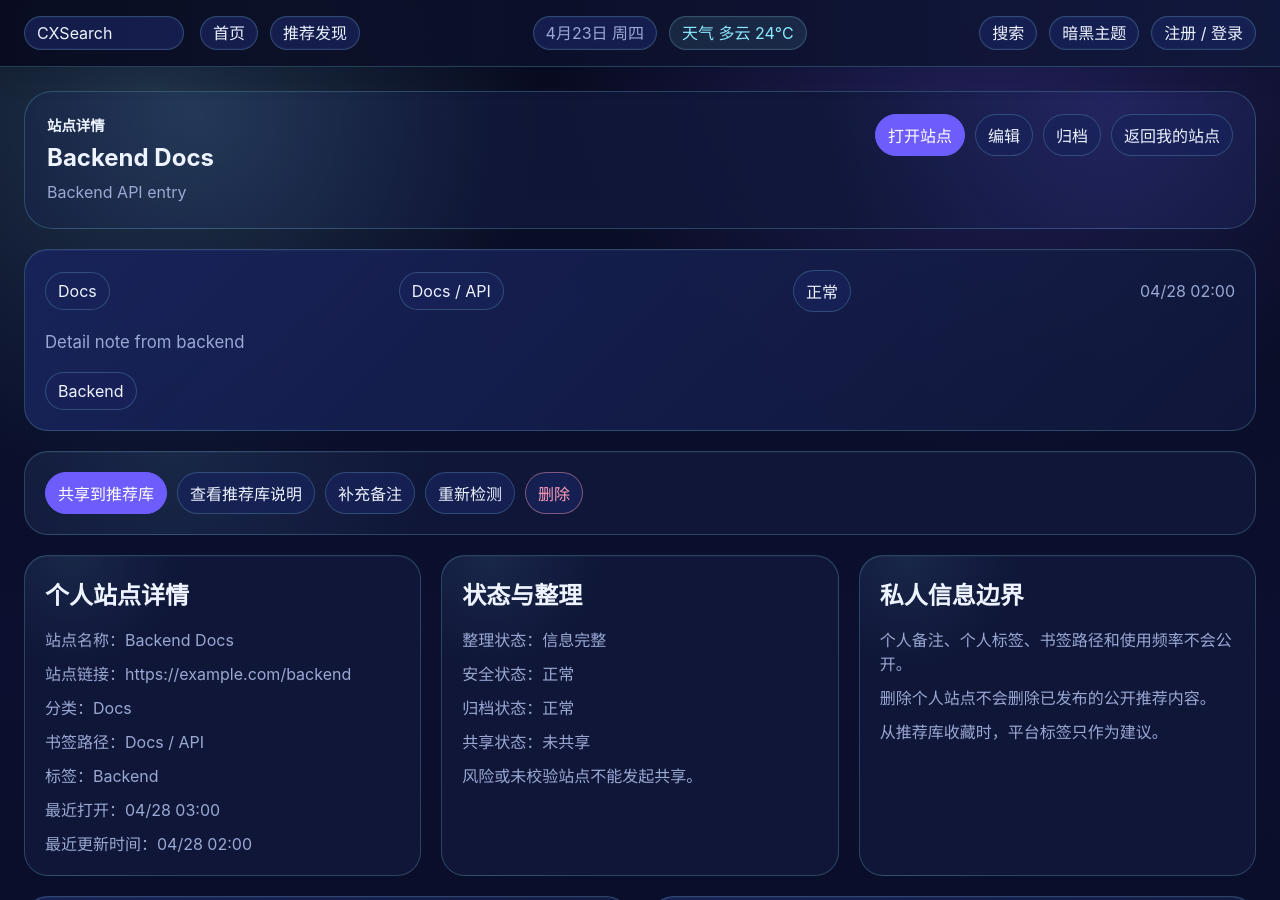
Scenario: my sites page › wires authenticated detail actions to personal site backend endpoints
Expected: the heading "Backend Docs" is shown, [47,143,214,172]
Click the button "打开站点": (920, 135) [875,114,965,156]
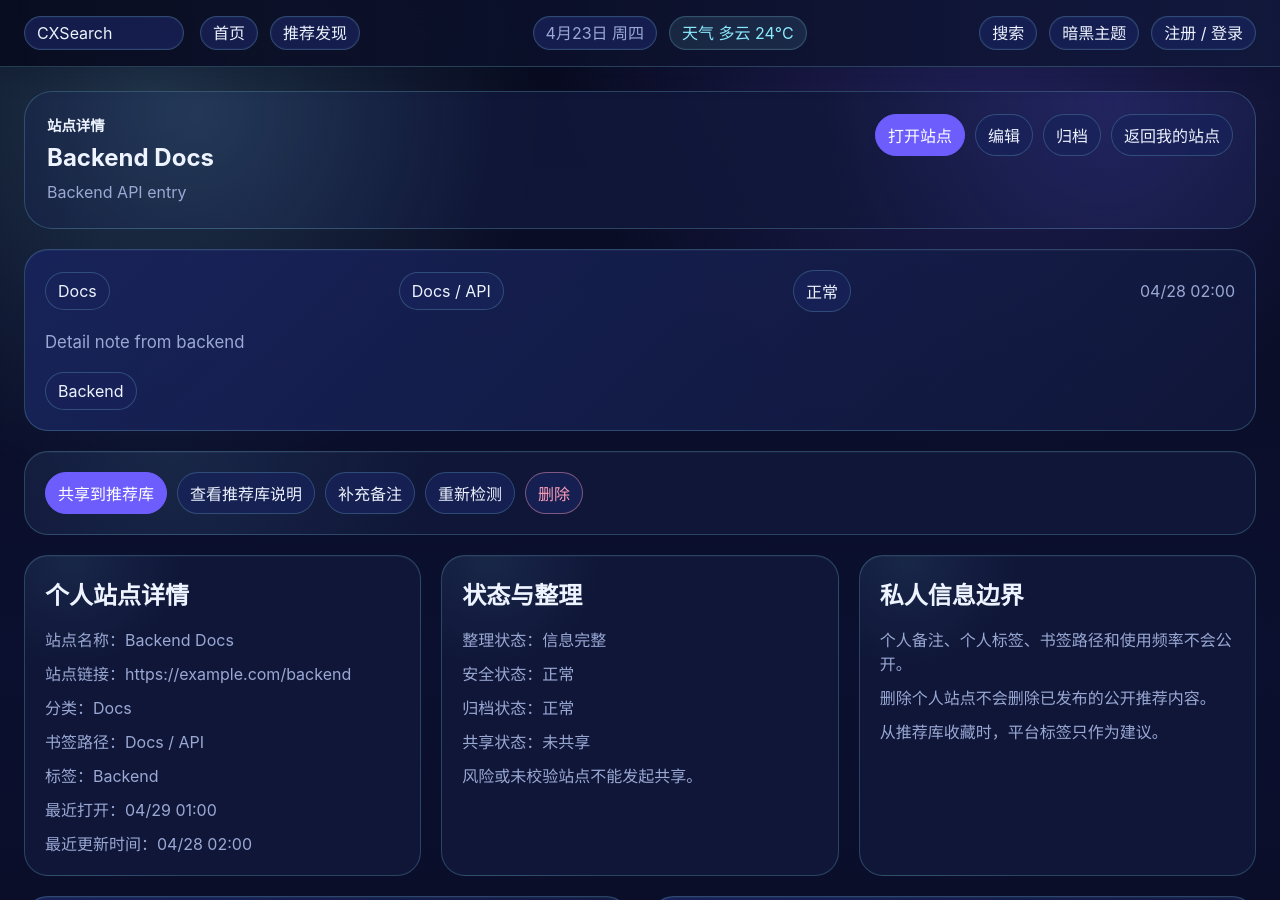
Click the button "归档": (1072, 135) [1043,114,1101,156]
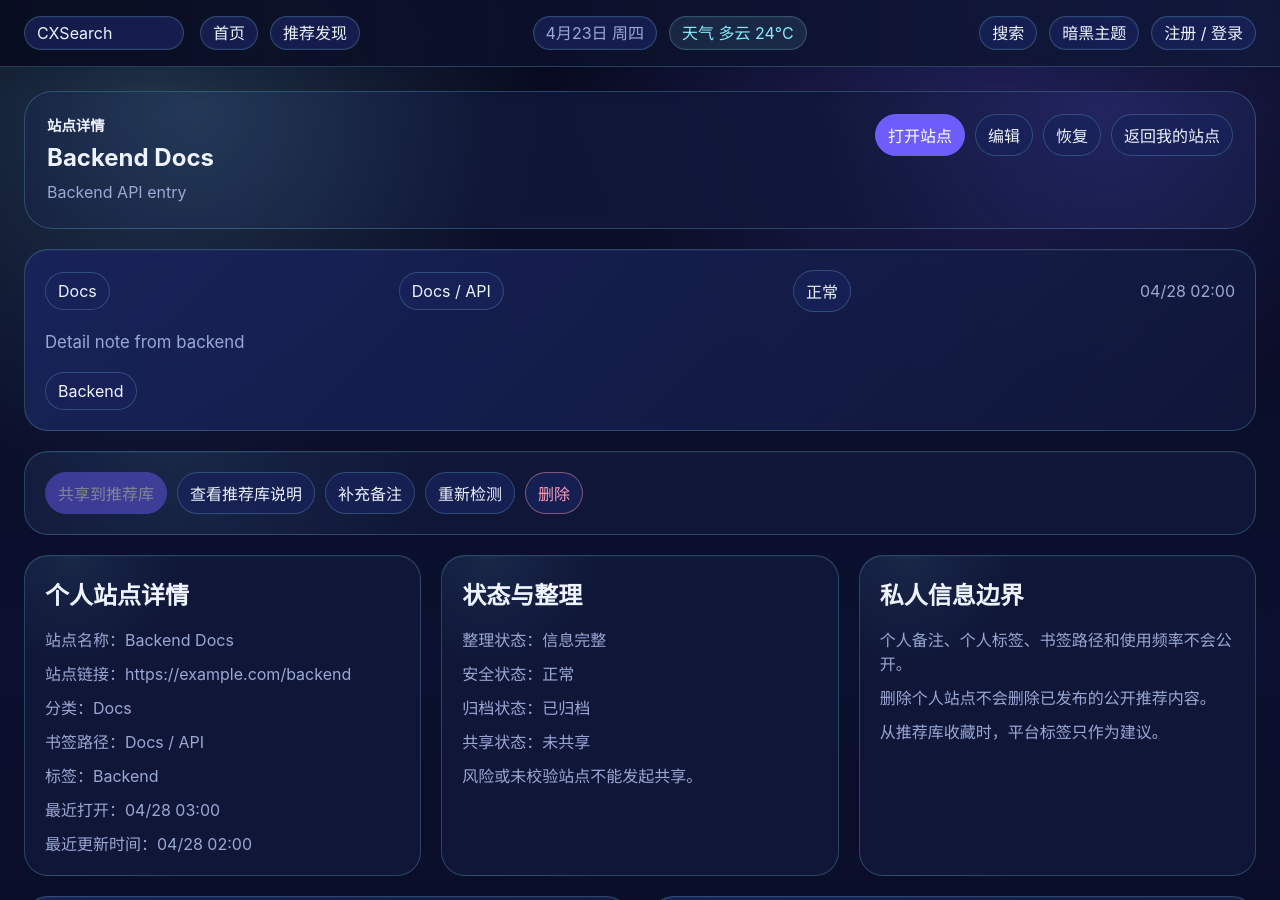
Expected: the button "恢复" is shown, [1043,114,1101,156]
Click the button "重新检测": (470, 493) [425,472,515,514]
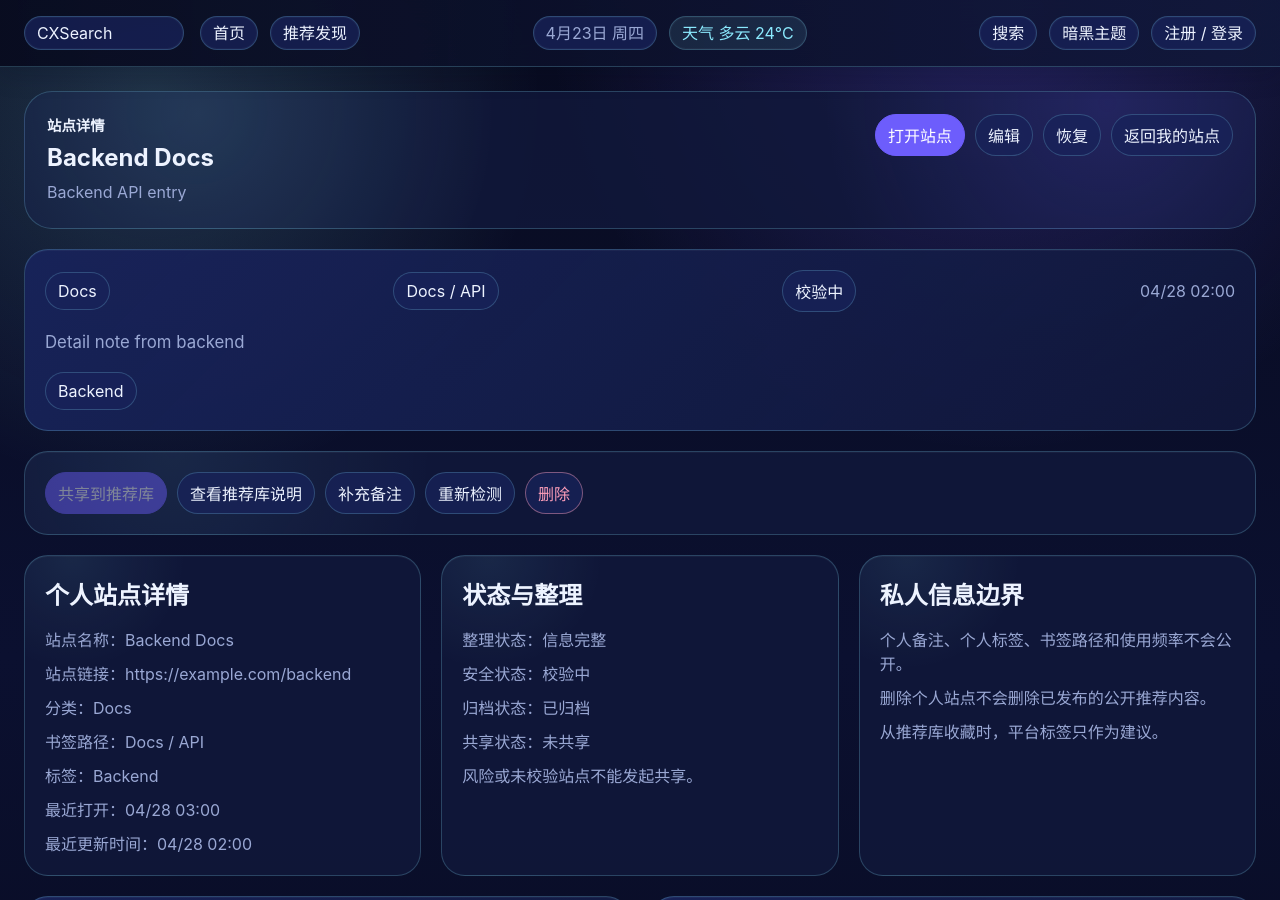
Expected: the list item "安全状态：校验中" is shown, [462,664,590,684]
Click the button "删除": (554, 493) [525,472,583,514]
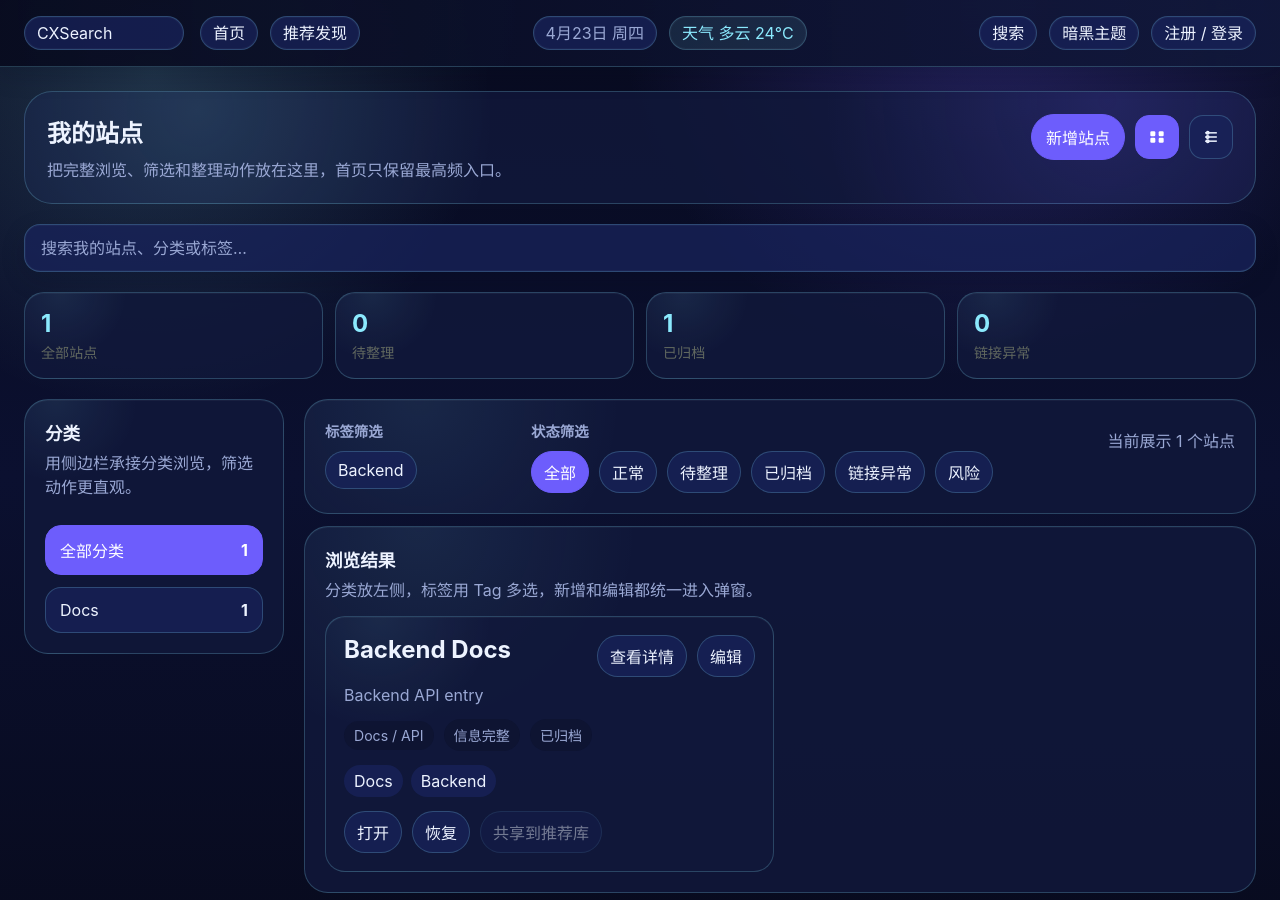
Expected: the heading "我的站点" is shown, [47,119,143,148]
